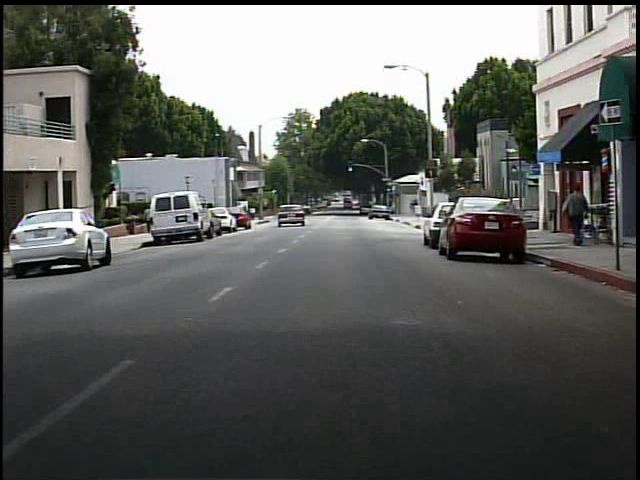person: (558, 182, 592, 248)
